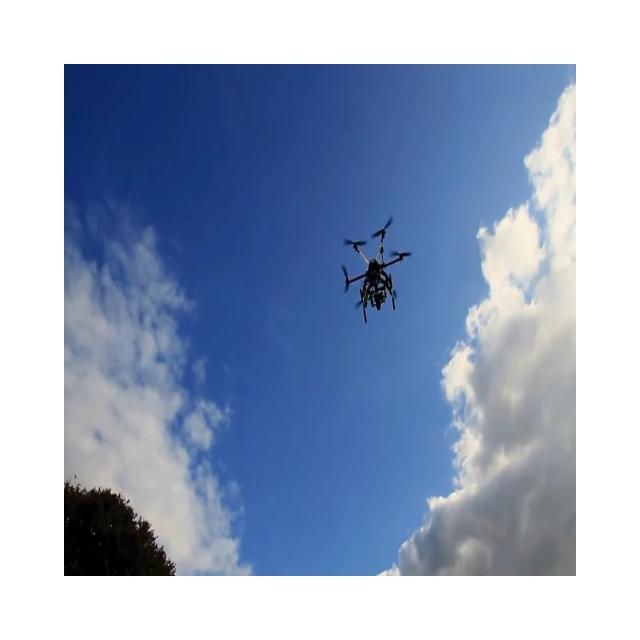drone: (341, 214, 411, 323)
